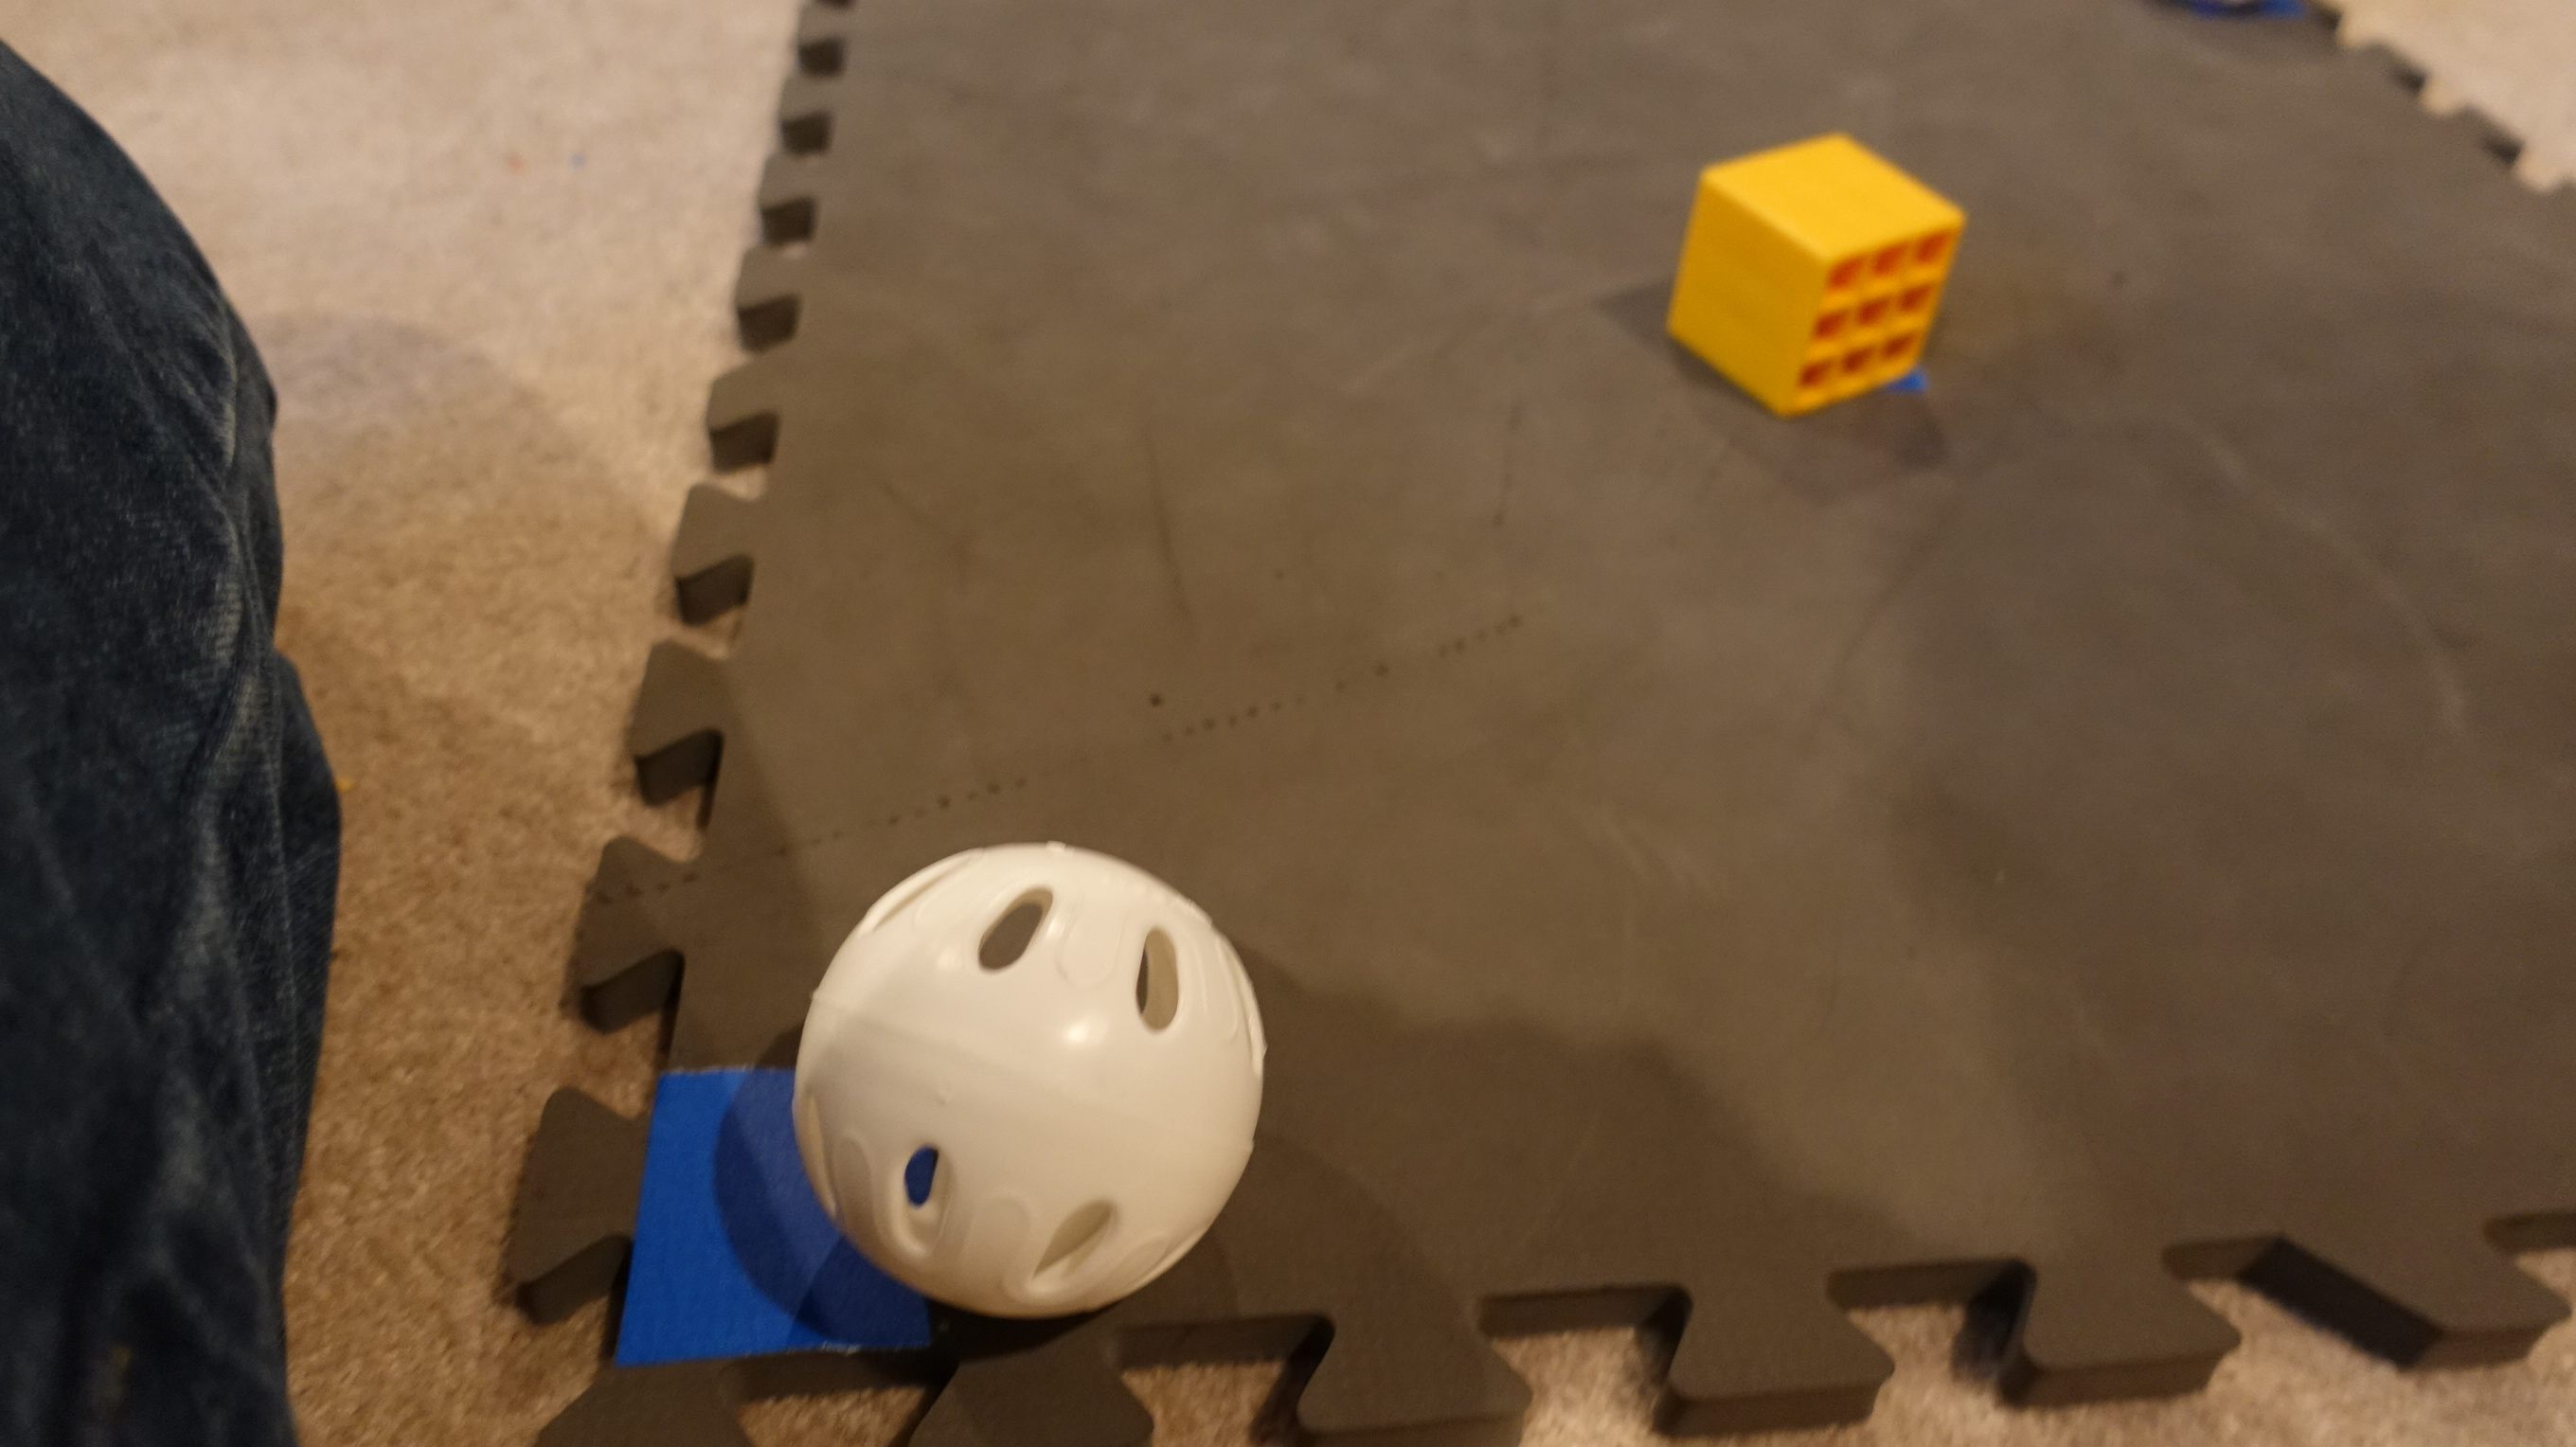gold: (1656, 106, 1973, 430)
silver: (791, 844, 1276, 1334)
